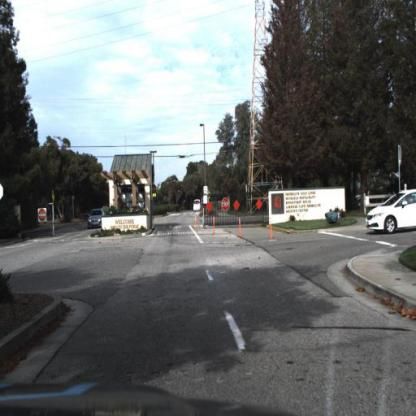car: (366, 186, 416, 230), (89, 208, 107, 230), (192, 197, 202, 214), (191, 199, 203, 213)
